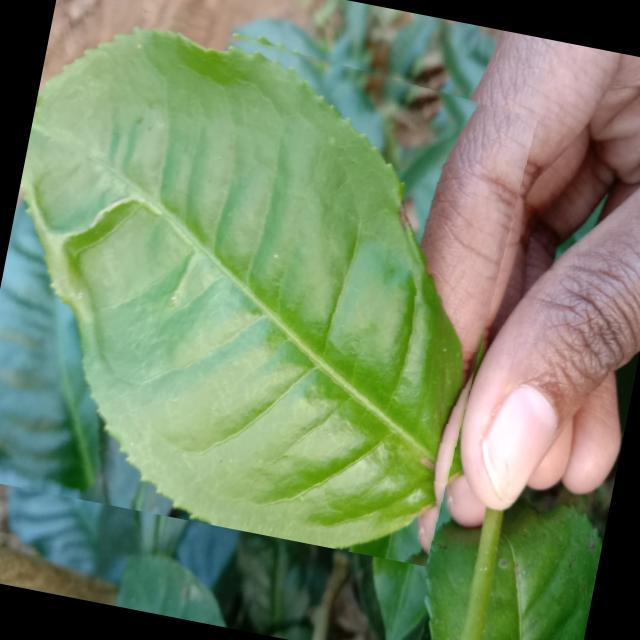Category C(4-7 days): (0, 0, 544, 570)
